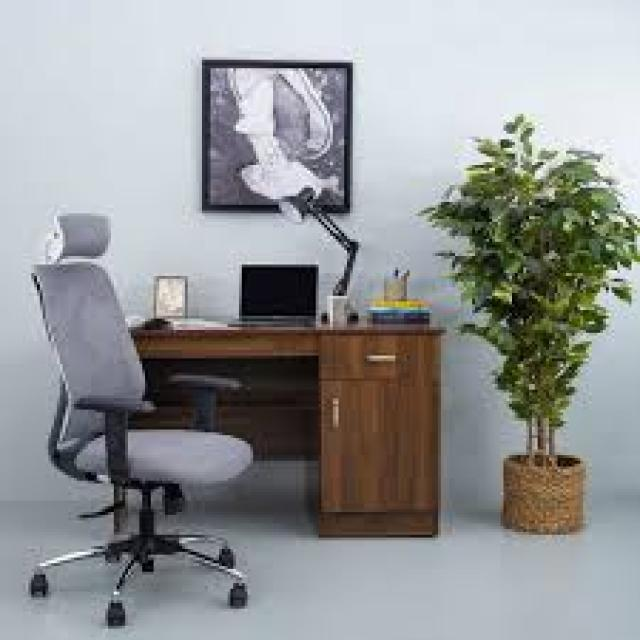chair: (11, 191, 265, 640)
